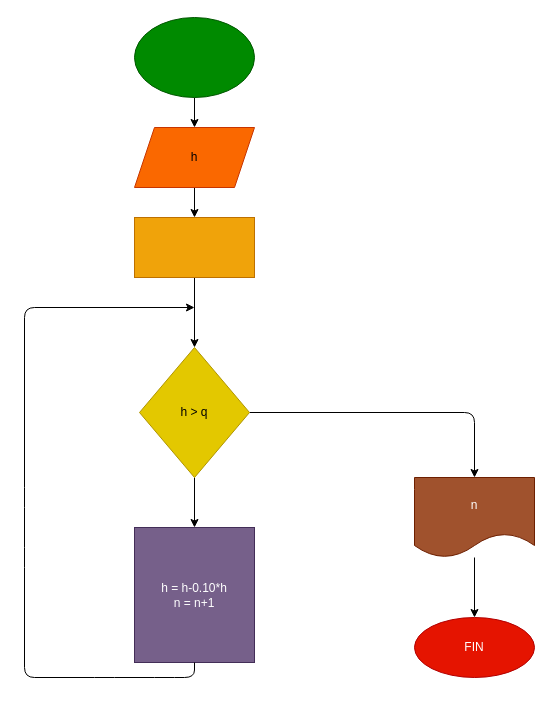
The diagram is 552 pixels wide and 703 high, and some of its shapes have lost their labels. The centre of each missing label's shape, as x and y in pixels:
INICIO: pixel 194 57
q = h/5 n = 0: pixel 194 247
